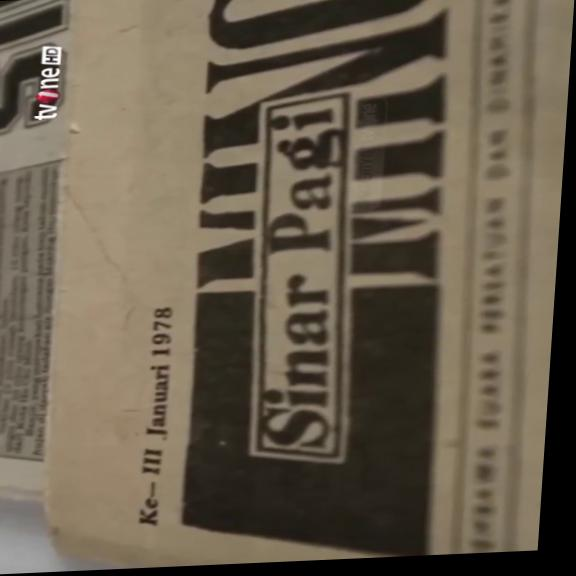Kertas: (30, 0, 572, 572), (0, 0, 82, 502)
